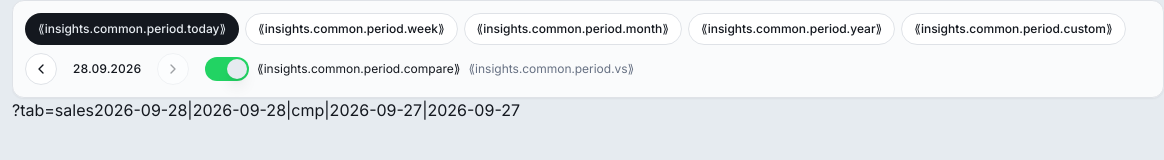
Test: InsightsFilterBar › ← / → step day by day; → stops at today and today goes back to the default
The width and height of the screenshot is (1164, 160).
Click the button named "⟪insights.common.period.prevDay⟫": x=41, y=69 left=25, top=53, right=57, bottom=85
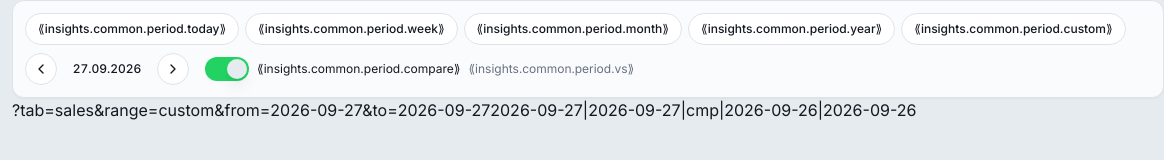
Expected: the text with test id "period" reads "2026-09-27|2026-09-27|cmp|2026-09-26|2026-09-26", left=490, top=100, right=916, bottom=120
Click the button named "⟪insights.common.period.nextDay⟫": x=173, y=69 left=157, top=53, right=189, bottom=85
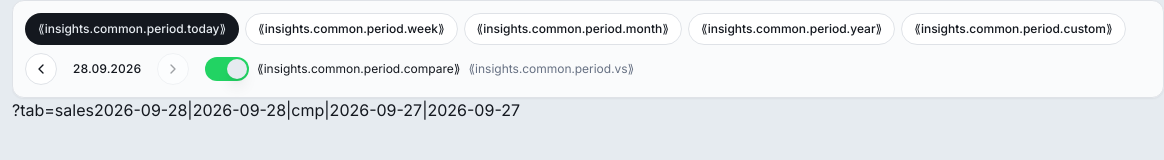
Expected: the text with test id "period" reads "2026-09-28|2026-09-28|cmp|2026-09-27|2026-09-27", left=94, top=100, right=520, bottom=120
